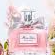dior_miss_dior: (5, 6, 51, 54)
